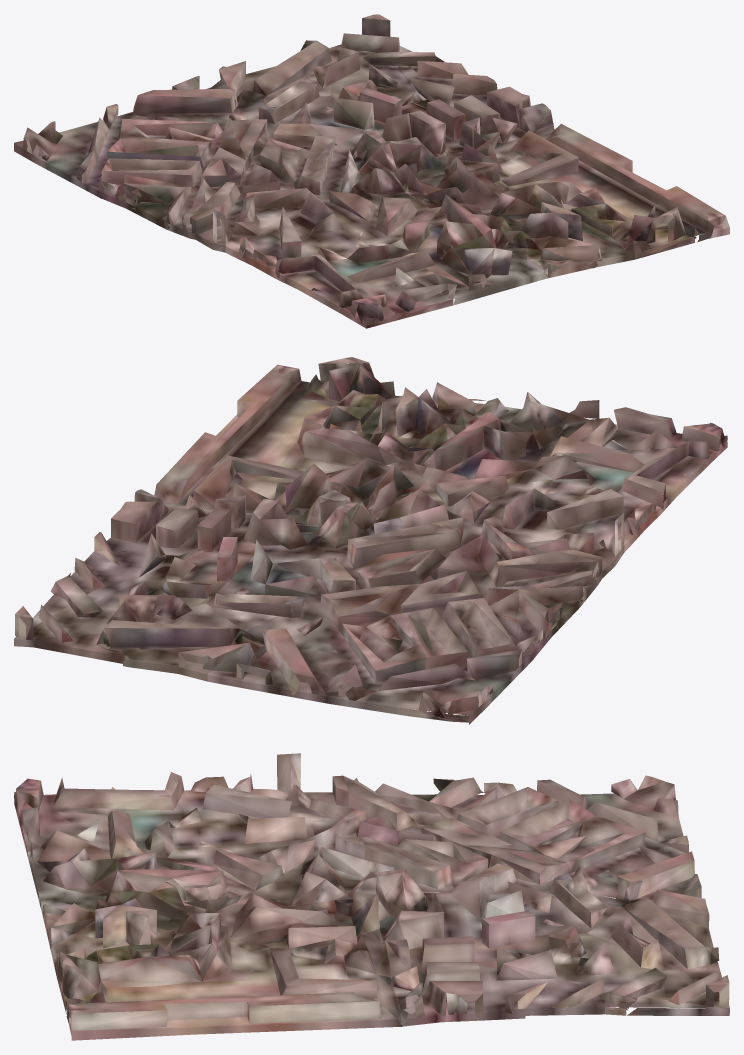
3 views of the same model, one above another, from view 1: azimuth 30°, elevation 25°; view 2: azimuth 150°, elevation 25°; view 3: azimuth 270°, elevation 25° (orthographic). The views are drawn at different scales.
Visible parts, largest first — view 1: Mesh_0; view 2: Mesh_0; view 3: Mesh_0.
Part boxes in pixels (x1,y1,x2,y2): Mesh_0: (14, 14, 729, 328); Mesh_0: (14, 357, 727, 724); Mesh_0: (14, 753, 729, 1040).
Size of the model in its own units: 533 by 69.21 by 660.
2 materials, 2 textured.
